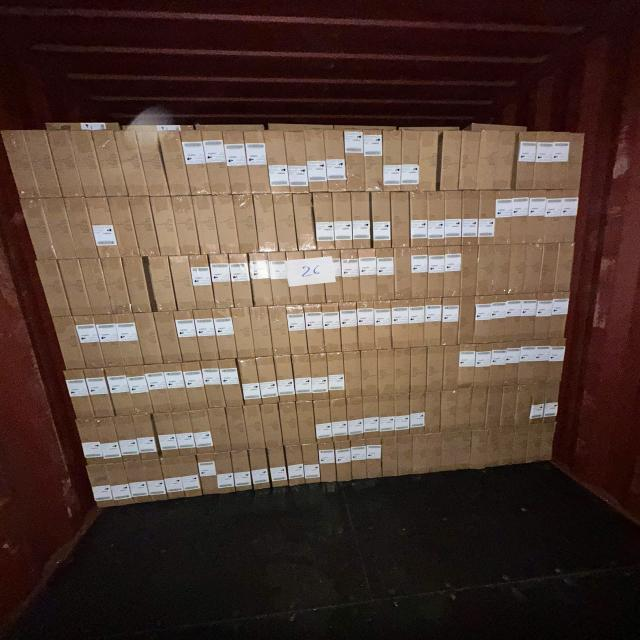Carton: (111, 130, 151, 198), (22, 130, 62, 197), (90, 128, 128, 198), (2, 130, 40, 199), (46, 130, 85, 197), (69, 130, 108, 197), (16, 198, 56, 261), (157, 131, 193, 197), (136, 130, 170, 197), (43, 198, 78, 261), (35, 259, 72, 317), (64, 197, 99, 258), (179, 130, 211, 196), (201, 130, 232, 196), (58, 260, 93, 317), (89, 199, 122, 259), (110, 197, 142, 257), (52, 316, 86, 371), (81, 258, 113, 316), (72, 316, 105, 371), (100, 258, 132, 314), (131, 197, 161, 256), (124, 257, 155, 313), (225, 132, 252, 195), (173, 196, 202, 254), (84, 369, 118, 418), (244, 132, 270, 196), (154, 198, 182, 257), (147, 257, 177, 312), (264, 132, 290, 195), (62, 369, 94, 418), (195, 198, 222, 256), (214, 196, 241, 254), (514, 131, 540, 191), (115, 315, 144, 368), (95, 316, 124, 369), (170, 255, 197, 311), (285, 132, 309, 195), (234, 194, 260, 252), (134, 312, 163, 364), (74, 419, 106, 465), (156, 313, 184, 365), (418, 128, 440, 192), (84, 464, 116, 508), (103, 462, 135, 506), (440, 130, 463, 191), (105, 367, 133, 417), (254, 194, 278, 252), (175, 312, 202, 363), (274, 194, 298, 251), (307, 132, 329, 194), (94, 418, 125, 462), (126, 365, 153, 415), (402, 128, 423, 192), (478, 129, 500, 190), (134, 414, 163, 460), (345, 131, 366, 194), (190, 255, 214, 310), (113, 417, 143, 461), (325, 132, 346, 194), (122, 461, 152, 504), (461, 130, 482, 191), (407, 192, 429, 250), (183, 363, 209, 412), (202, 361, 228, 410), (249, 254, 273, 307), (294, 194, 316, 251), (313, 193, 335, 250), (196, 310, 221, 360), (145, 364, 170, 414), (210, 255, 233, 309), (304, 250, 327, 304), (382, 130, 402, 191), (231, 255, 254, 308), (557, 189, 580, 242), (154, 415, 181, 460), (286, 252, 308, 307), (525, 189, 547, 244), (141, 460, 169, 503), (159, 457, 187, 500), (214, 309, 238, 359), (533, 131, 553, 191), (564, 133, 585, 190), (270, 253, 292, 307), (497, 130, 517, 189), (252, 306, 275, 357), (234, 307, 257, 358), (352, 192, 372, 250), (334, 192, 354, 250), (363, 134, 383, 192), (166, 364, 189, 414), (372, 192, 392, 249), (478, 190, 498, 247), (550, 132, 570, 189), (177, 456, 204, 498), (219, 361, 243, 408), (239, 359, 262, 407), (173, 414, 198, 458), (553, 242, 575, 292), (391, 192, 410, 249), (442, 191, 461, 248), (461, 190, 480, 247), (340, 250, 360, 304), (323, 250, 343, 304), (538, 242, 559, 293), (376, 250, 396, 303), (543, 190, 563, 243), (227, 407, 251, 451), (208, 408, 232, 452), (548, 291, 570, 339), (271, 308, 292, 358), (523, 243, 544, 293), (358, 248, 377, 303), (476, 244, 496, 296), (279, 403, 302, 448), (510, 190, 529, 244), (492, 244, 512, 295), (443, 246, 463, 297), (262, 404, 285, 448), (426, 192, 444, 248), (212, 452, 236, 494), (306, 304, 326, 354), (322, 302, 342, 352), (295, 402, 317, 447), (190, 411, 213, 454), (393, 249, 412, 301), (410, 247, 429, 299), (428, 246, 447, 298), (461, 245, 480, 297), (260, 358, 281, 405), (288, 307, 308, 356), (472, 295, 492, 344), (494, 191, 512, 245), (244, 406, 266, 450), (442, 299, 462, 347), (490, 295, 510, 343), (390, 300, 409, 350), (313, 400, 335, 443), (276, 358, 297, 403), (341, 303, 360, 352), (357, 302, 376, 351), (519, 292, 538, 341), (232, 450, 254, 492), (293, 356, 313, 402), (456, 344, 476, 390), (423, 299, 442, 347), (503, 294, 522, 342), (198, 452, 219, 495), (498, 385, 519, 428), (249, 450, 271, 491), (536, 294, 556, 339), (472, 343, 492, 388), (488, 342, 508, 387), (359, 350, 378, 397), (375, 301, 393, 350), (508, 245, 526, 294), (301, 444, 322, 486), (346, 397, 366, 441), (546, 338, 566, 382), (408, 300, 426, 348), (458, 297, 476, 345), (514, 384, 534, 427), (470, 388, 490, 431), (344, 352, 362, 399), (528, 383, 548, 425), (531, 340, 550, 384), (329, 398, 348, 442), (327, 354, 345, 400), (312, 355, 330, 401), (378, 350, 396, 396), (444, 346, 462, 392), (518, 340, 536, 386), (270, 447, 290, 488), (317, 442, 337, 483), (426, 348, 444, 393), (503, 341, 520, 387), (333, 441, 352, 482), (349, 439, 368, 480), (484, 386, 502, 429), (455, 388, 473, 431), (396, 434, 414, 477), (411, 349, 428, 394), (286, 447, 304, 488), (544, 382, 562, 423), (424, 391, 441, 434), (394, 350, 410, 395), (409, 391, 425, 435), (470, 428, 487, 469), (539, 423, 557, 461), (366, 437, 382, 479), (411, 434, 427, 476), (378, 397, 394, 438), (382, 436, 398, 477), (394, 393, 409, 436), (426, 433, 442, 473), (526, 423, 542, 463), (364, 396, 379, 438), (441, 390, 456, 432), (456, 431, 472, 470), (498, 428, 514, 466), (441, 432, 456, 472), (486, 428, 500, 468), (512, 426, 526, 464)
